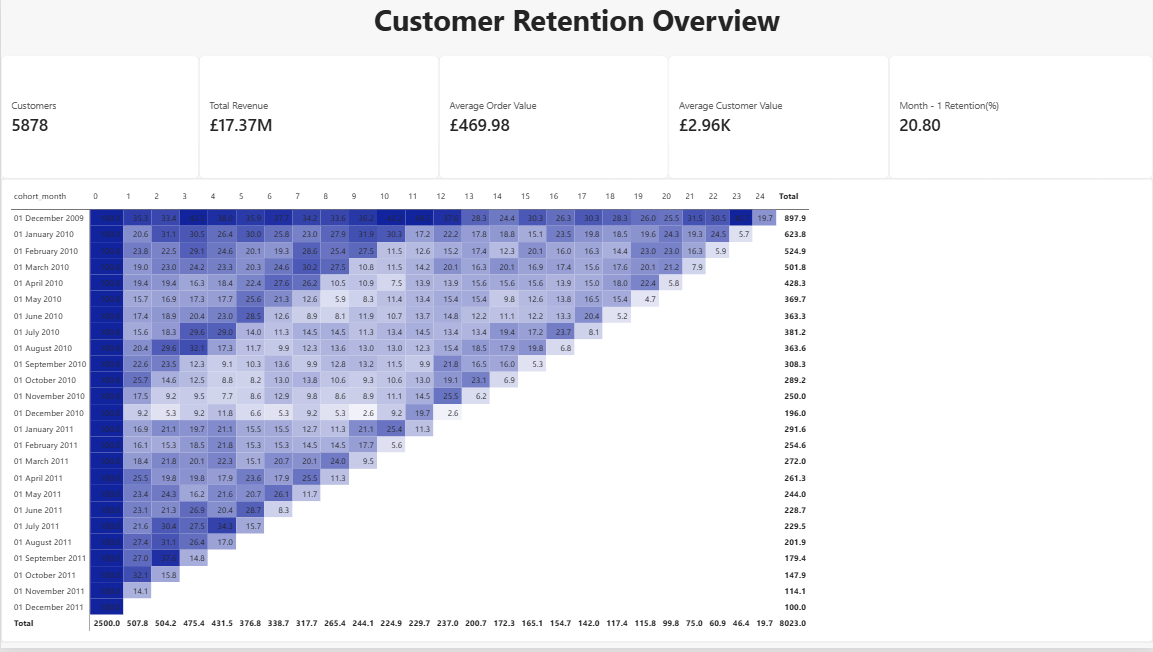

The page's visual inventory and layout, read from the dashboard file:
{"tool":"powerbi","page":{"name":"Retention Overview","canvas":[1920,1080],"ordinal":0},"visuals":[{"type":"pivotTable","fields":{"Columns":["cohort_retention.month_index"],"Rows":["cohort_retention.cohort_month"],"Values":["Sum(cohort_retention.retention_pct)"]},"box":[0,297.5,1920,772.5],"z":0},{"type":"cardVisual","fields":{"Data":["Sum(clv_summary.customers)"]},"box":[0,92.5,330,205],"z":1000},{"type":"cardVisual","fields":{"Data":["Sum(clv_summary.total_revenue)"]},"box":[330,92.5,400,205],"z":2000},{"type":"cardVisual","fields":{"Data":["Sum(clv_summary.aov)"]},"box":[730,92.5,382.5,205],"z":3000},{"type":"cardVisual","fields":{"Data":["Sum(clv_summary.avg_clv)"]},"box":[1112.5,92.5,367.5,205],"z":4000},{"type":"cardVisual","fields":{"Data":["Sum(avg_retention.avg_retention_pct)"]},"box":[1480,92.5,440,205],"z":5000},{"type":"textbox","box":[0,0,1920,92.5],"z":5001}]}

Visuals, with their boxes in screenshot pixels (x1, y1, x2, y2), scaled from the page's 1920x1080 canvas onto the 1153x652 screenshot:
pivotTable - cohort_retention.month_index x cohort_retention.cohort_month: detection(0, 180, 1152, 646)
cardVisual - Sum(clv_summary.customers): detection(0, 56, 198, 180)
cardVisual - Sum(clv_summary.total_revenue): detection(198, 56, 438, 180)
cardVisual - Sum(clv_summary.aov): detection(438, 56, 668, 180)
cardVisual - Sum(clv_summary.avg_clv): detection(668, 56, 889, 180)
cardVisual - Sum(avg_retention.avg_retention_pct): detection(889, 56, 1152, 180)
textbox: detection(0, 0, 1152, 56)
